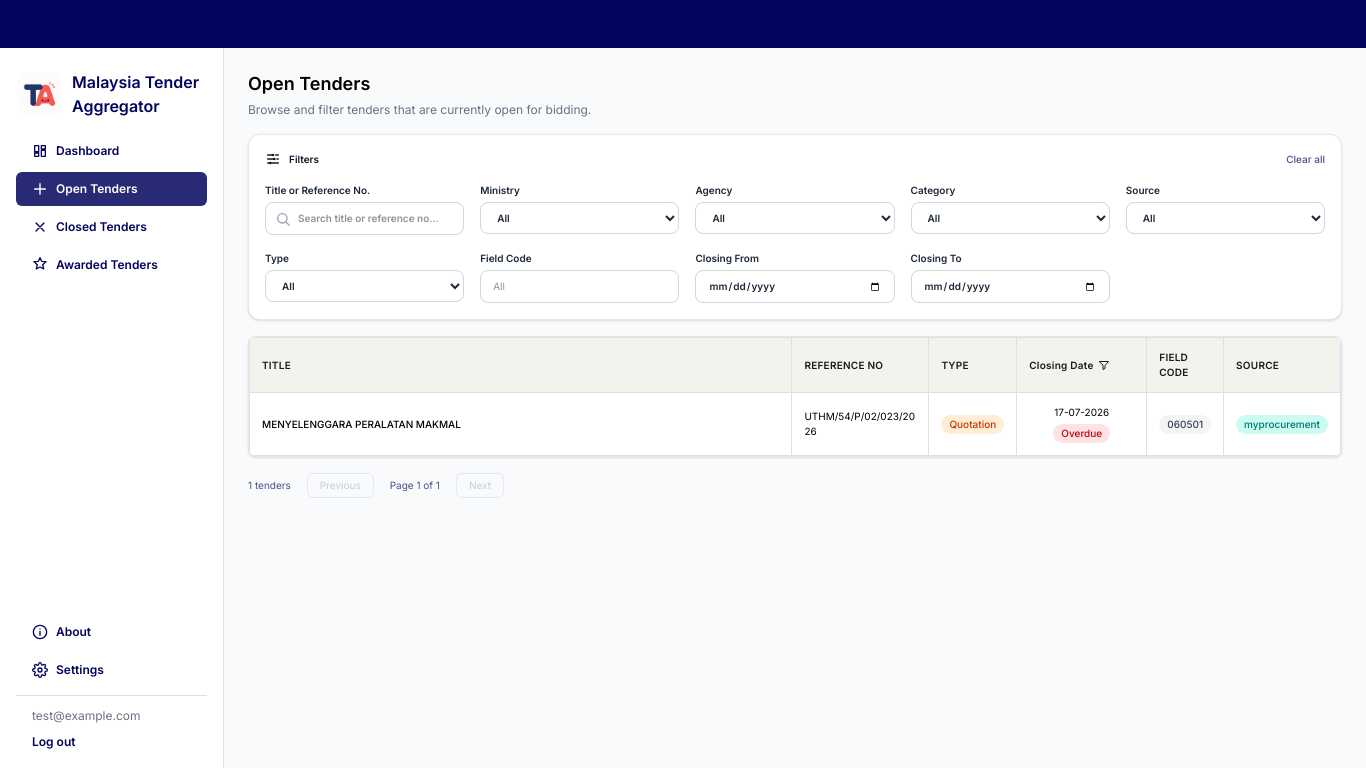
App › renders a Dashboard link pinned first in the nav, leading to the Dashboard page
The width and height of the screenshot is (1366, 768).
Check: the text "MENYELENGGARA PERALATAN MAKMAL" is shown, box left=250, top=392, right=792, bottom=456
Click the link "Dashboard".
click(76, 151)  # box left=32, top=143, right=119, bottom=159
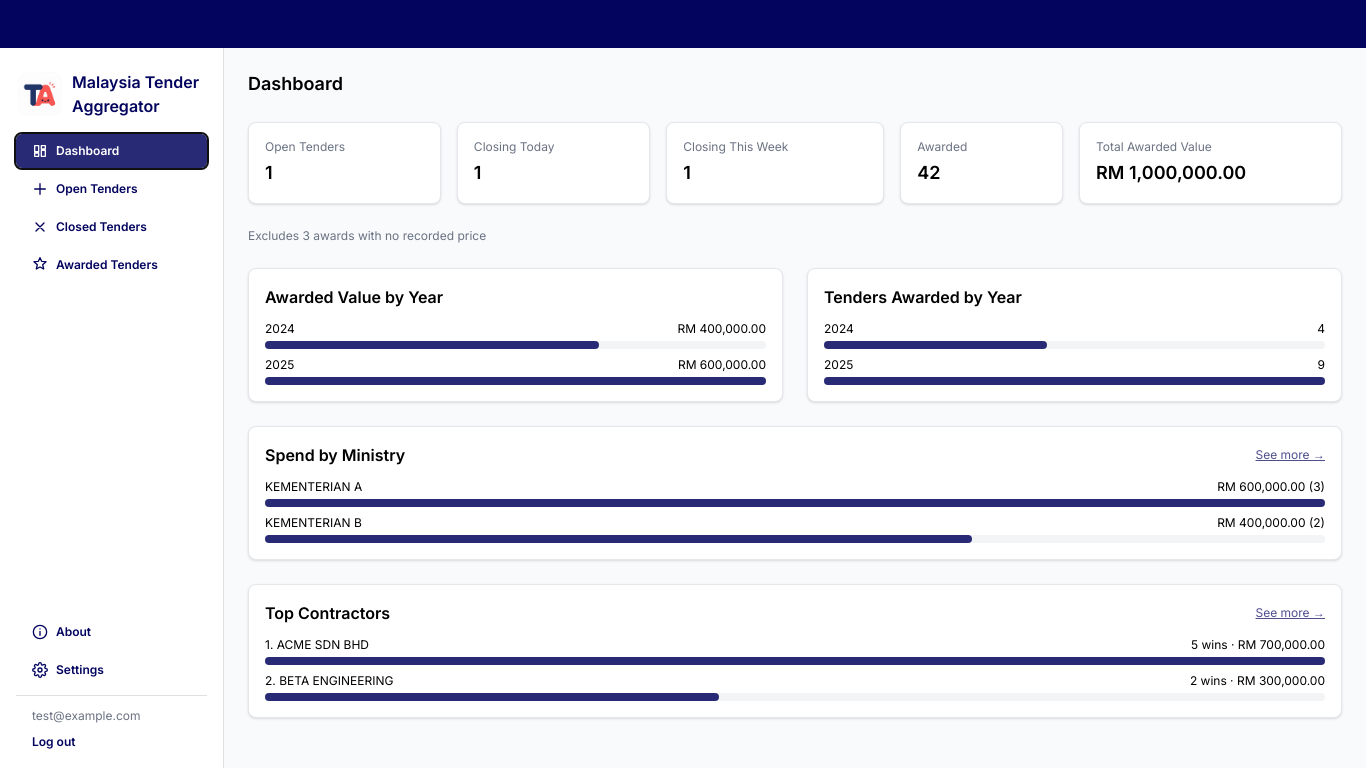
Check: the heading "Spend by Ministry" is shown, box left=265, top=443, right=405, bottom=467
